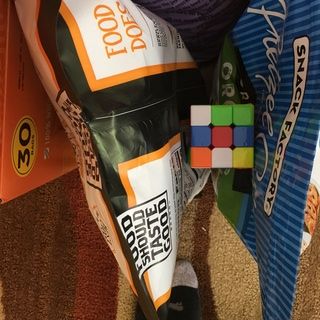face: (190, 104, 255, 169)
